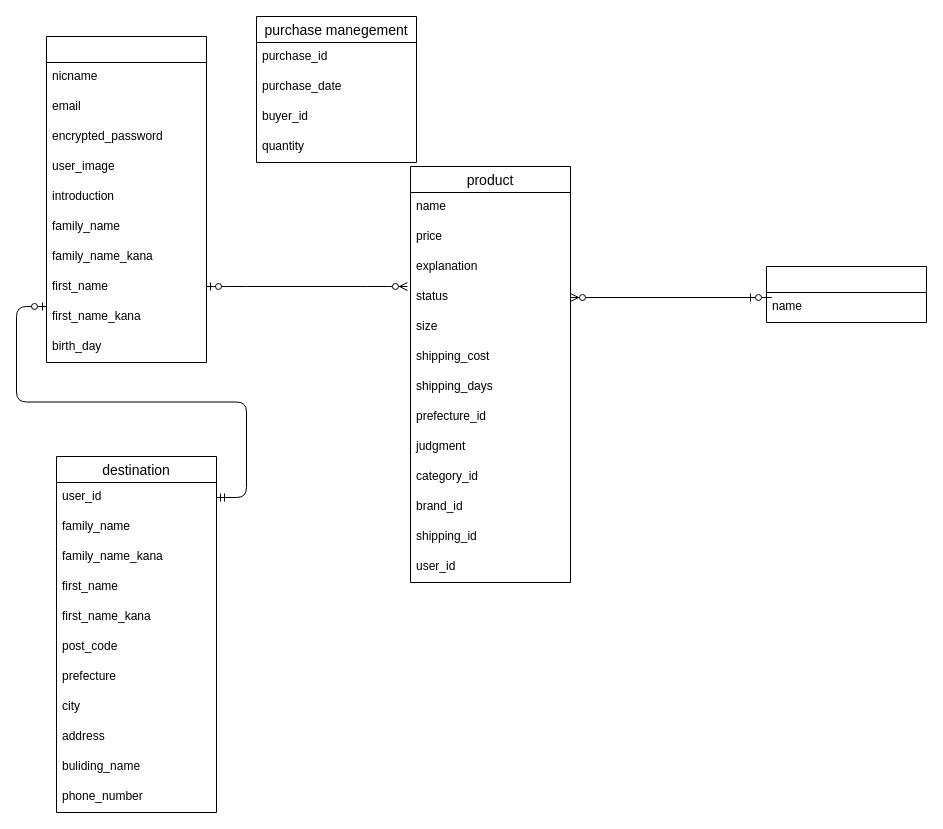
Image size: 943x829. Some labels were removed from this diagram. The shapes that lost their labels are listed below. From the top down, each one's box as (x1, y1, x2, y2) in pixels, then its label:
(46, 36, 206, 362): users
(766, 266, 926, 322): brand
